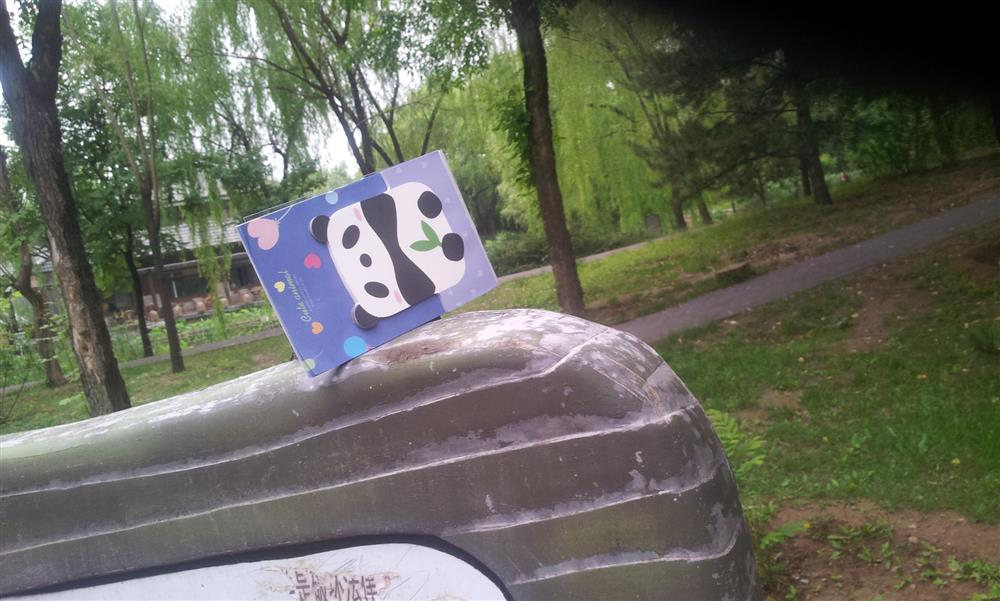panda_book: (234, 157, 497, 376)
